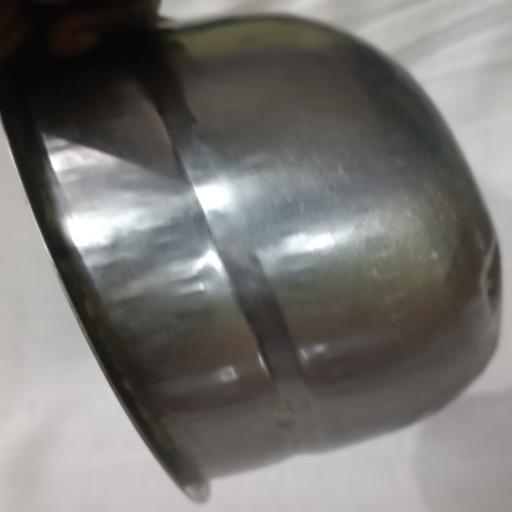vessel: (0, 17, 500, 501)
